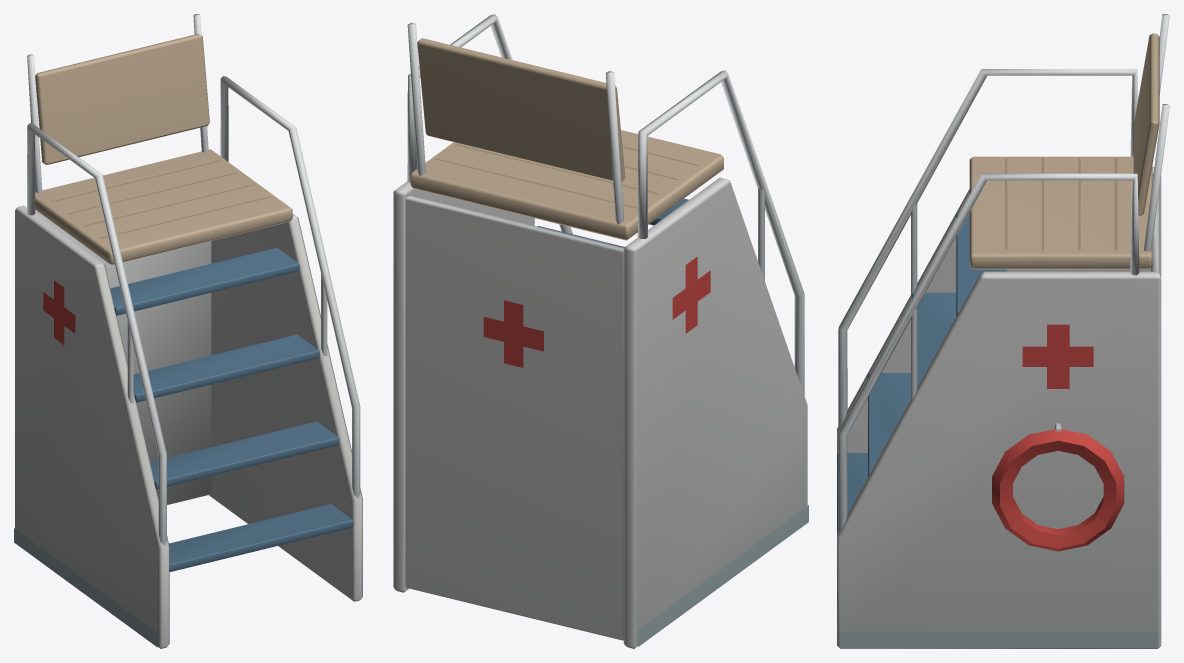
Rendered from lifeguard_chair.glb.
3 views of the same model, side by side, from view 1: azimuth 30°, elevation 25°; view 2: azimuth 150°, elevation 25°; view 3: azimuth 270°, elevation 25° (orthographic). The views are drawn at different scales.
Visible parts, largest first — view 1: pool_lifeguard_chair; view 2: pool_lifeguard_chair; view 3: pool_lifeguard_chair.
Boxes of the visible parts, bbox=[...] form: pool_lifeguard_chair: bbox=[14, 14, 362, 648]; pool_lifeguard_chair: bbox=[393, 14, 808, 648]; pool_lifeguard_chair: bbox=[837, 14, 1169, 648].
Bounding box in the file's own units: 0.973 × 2 × 1.13.
